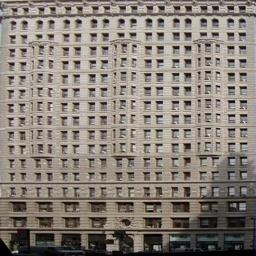building: (0, 0, 256, 250)
